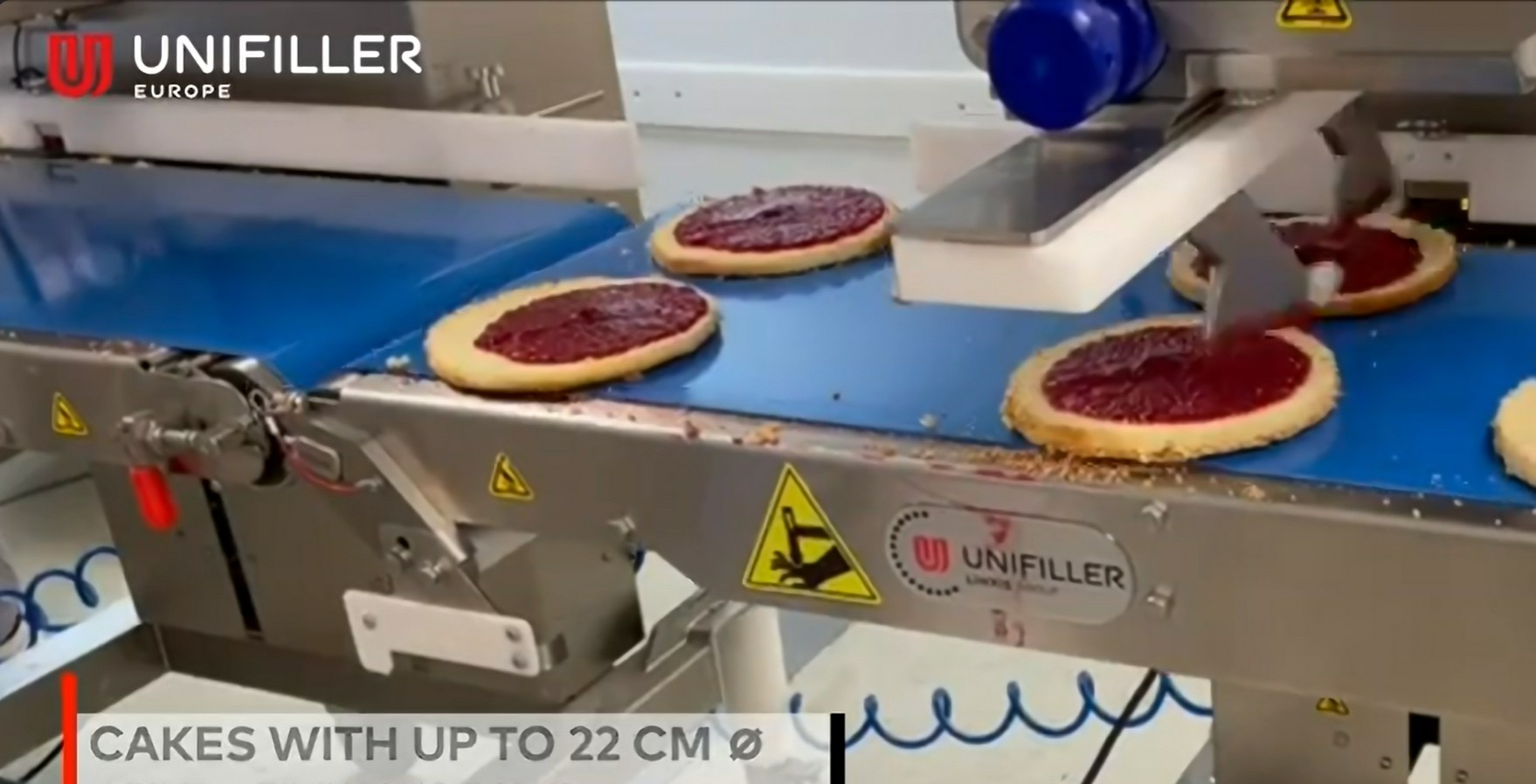Jam Coated: (1010, 316, 1339, 465), (424, 274, 712, 384), (1166, 211, 1465, 309), (652, 185, 892, 279)
